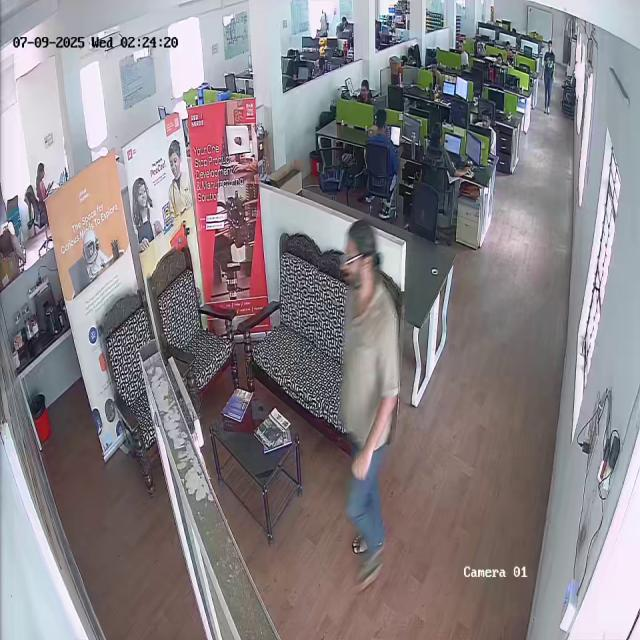person: (316, 218, 404, 583), (422, 122, 460, 210), (368, 110, 398, 187), (28, 160, 53, 213), (541, 40, 556, 115)
